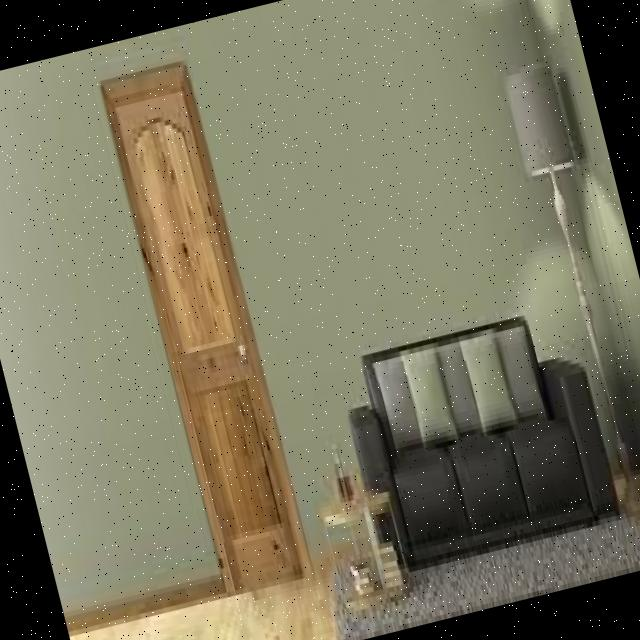Door: (95, 54, 316, 606)
Sofa: (318, 278, 624, 582)
Table: (302, 448, 424, 630)
